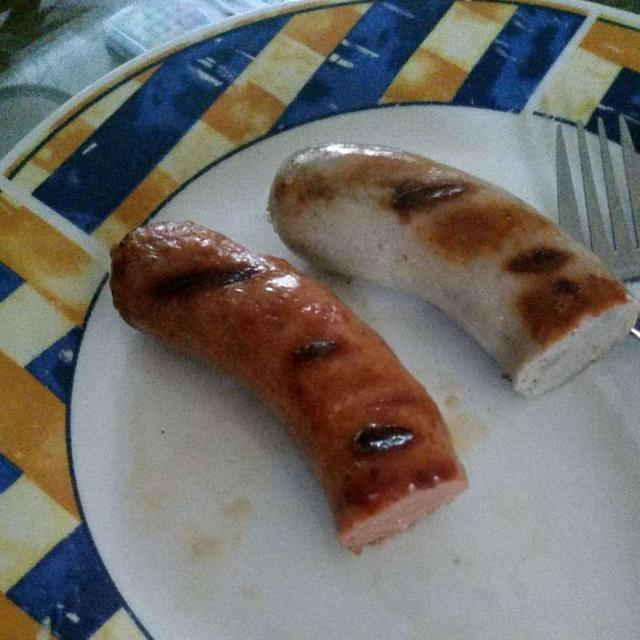sausage: (92, 226, 479, 566), (282, 148, 635, 390)
